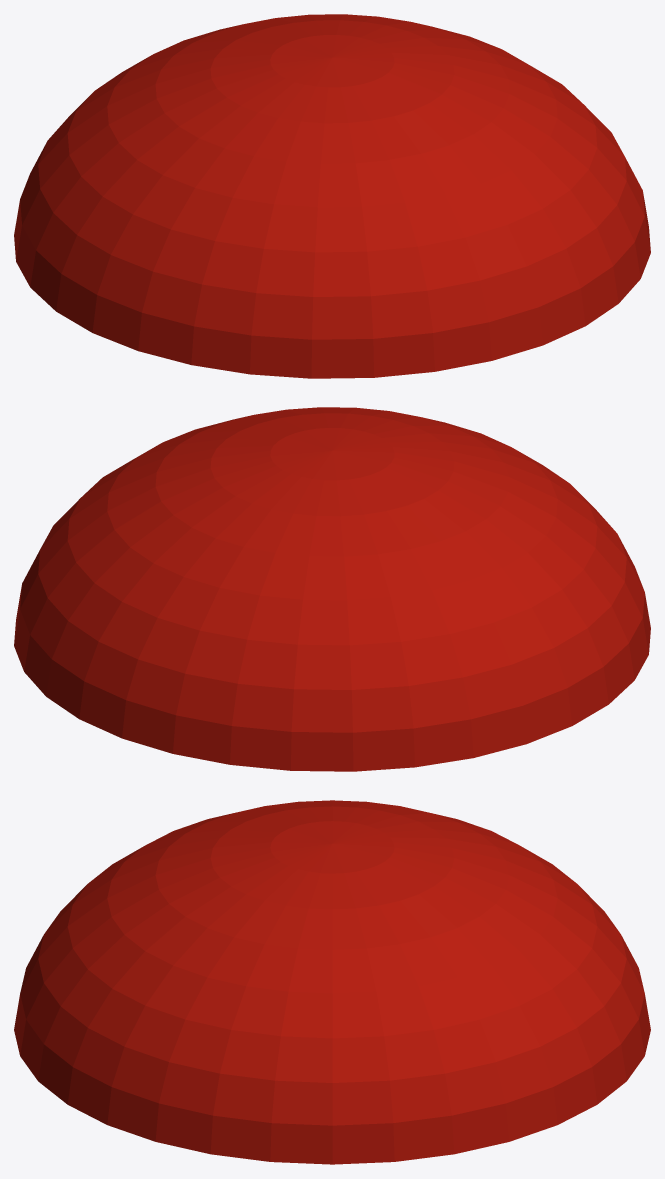
Rendered from switch.obj.
3 renders of one model, top to bottom at view 1: azimuth 30°, elevation 25°; view 2: azimuth 150°, elevation 25°; view 3: azimuth 270°, elevation 25°, orthographic.
Visible parts, largest first — view 1: 球; view 2: 球; view 3: 球.
Part boxes in pixels (x1=…): 球: x1=14, y1=14, x2=650, y2=378; 球: x1=14, y1=407, x2=650, y2=771; 球: x1=14, y1=800, x2=650, y2=1164.
Bounding box in the file's own units: 2 × 0.645 × 2.
Materials: 1 (1 with a texture image).
